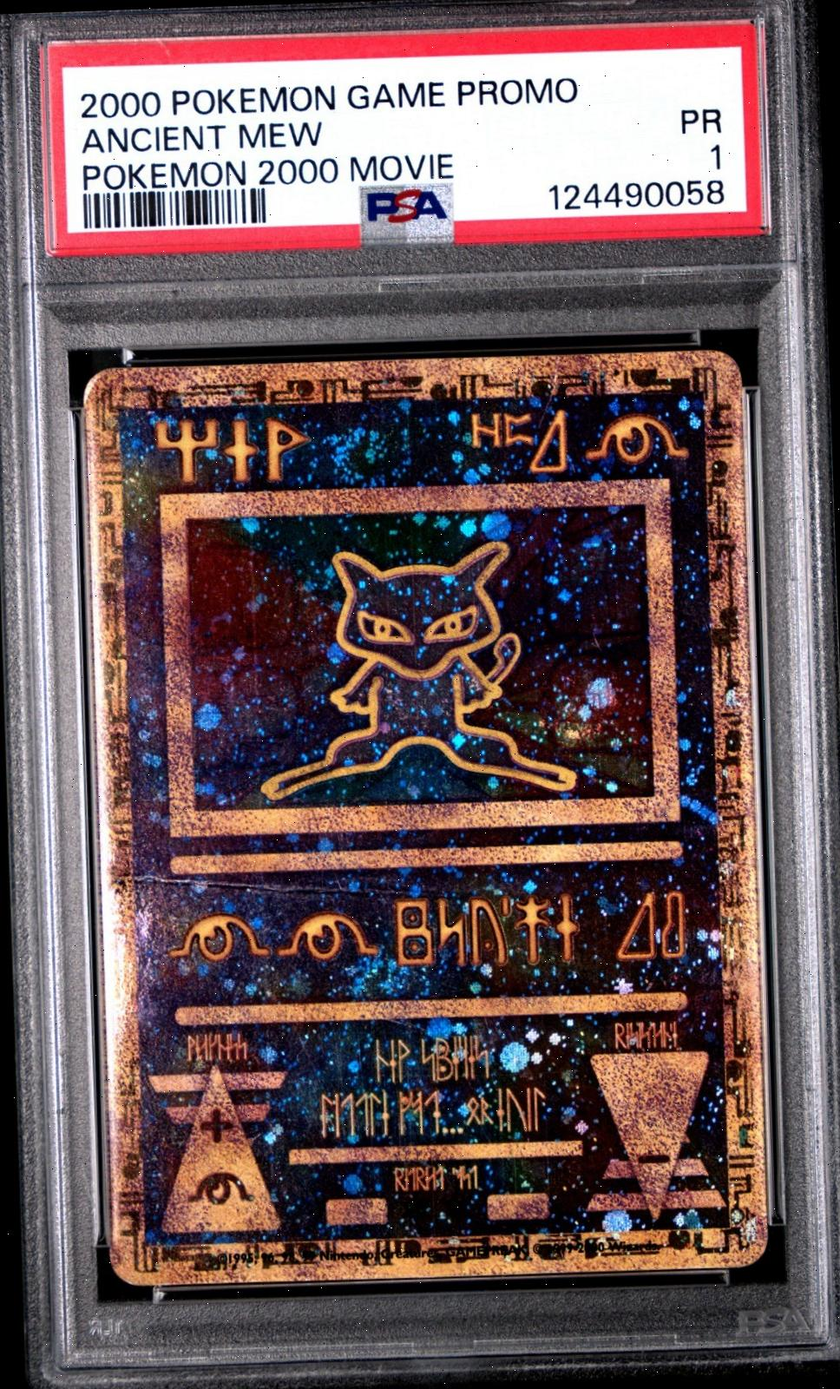card-2UtV: (82, 349, 768, 1287)
